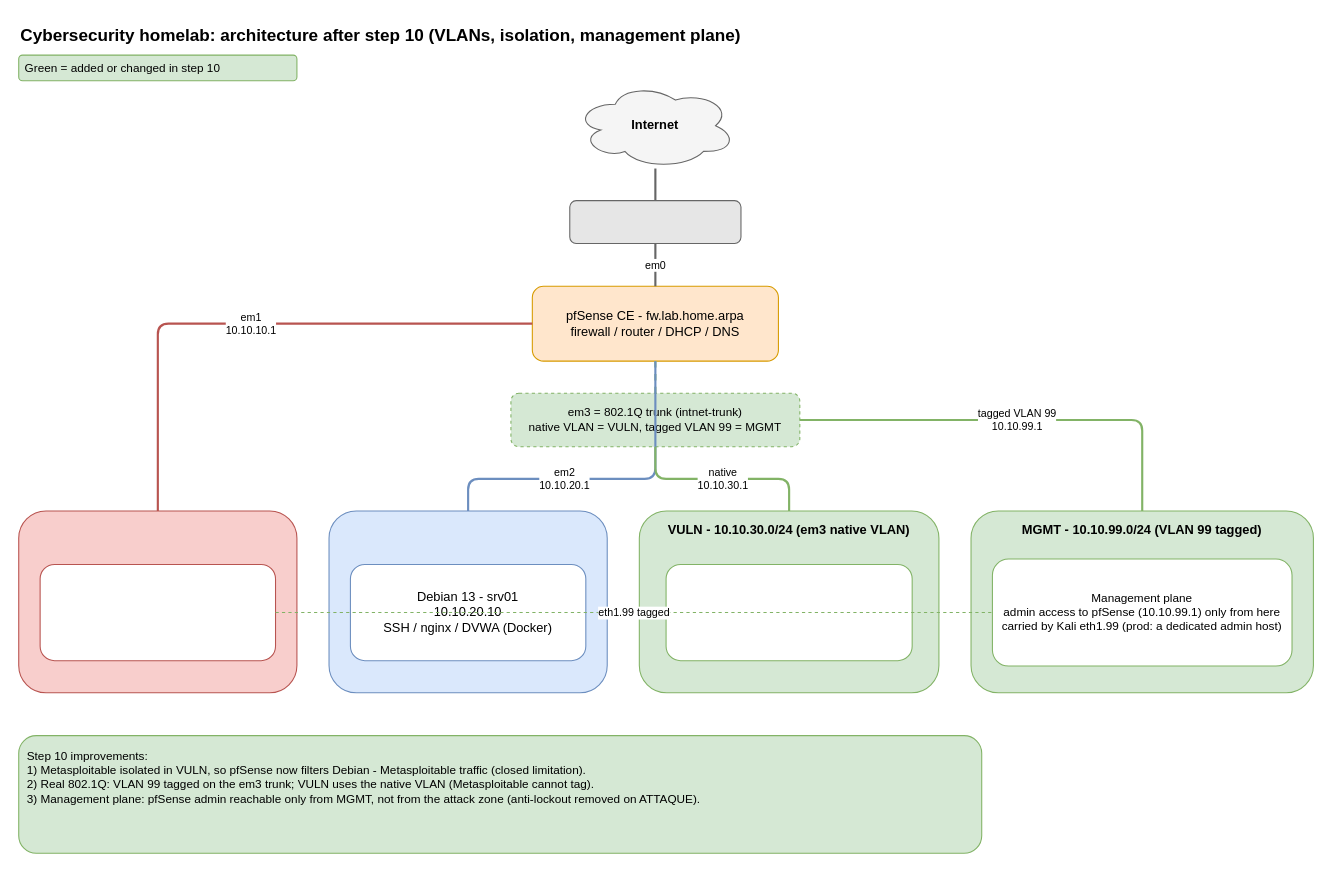
Some shapes in this 1332 by 872 pixel diagram are drawn without their labels. Each missing label, with the box of its shape:
ATTAQUE - 10.10.10.0/24 (em1): (18, 510, 297, 693)
CIBLES - 10.10.20.0/24 (em2): (328, 510, 607, 693)
Kali Linux eth0: 10.10.10.10 (attack) eth1.99: 10.10.99.10 (management): (39, 563, 276, 661)
Metasploitable 2 10.10.30.20 moved here from CIBLES in step 10: (665, 563, 912, 661)
WAN - DHCP client (NAT): (569, 200, 741, 243)
